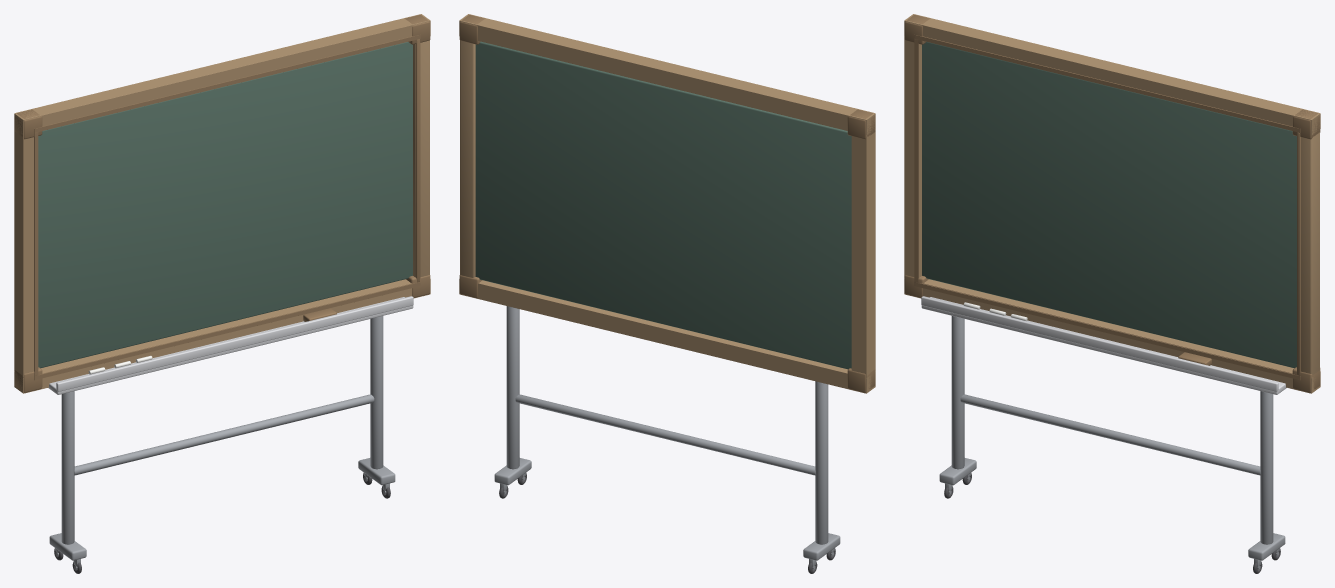
Rendered from blackboard.glb.
3 views of the same model, side by side, from view 1: azimuth 30°, elevation 25°; view 2: azimuth 150°, elevation 25°; view 3: azimuth 330°, elevation 25° (orthographic).
Parts seen in each view (by area): view 1: Blackboard_Surface, Blackboard_RailTop, Blackboard_RailBottom, Blackboard_RailSideL, Blackboard_TrayLip, Blackboard_RailSideR, Blackboard_CrossBar, Blackboard_Leg_-0.72, Blackboard_Leg_0.72, Blackboard_Bead_RailTop, Blackboard_Bead_RailBottom, Blackboard_ChalkTray (+5 smaller); view 2: Blackboard_Surface, Blackboard_RailTop, Blackboard_RailBottom, Blackboard_RailSideL, Blackboard_RailSideR, Blackboard_CrossBar, Blackboard_Leg_-0.72, Blackboard_Leg_0.72, Blackboard_Corner_-1_1, Blackboard_Foot_-0.72, Blackboard_Foot_0.72; view 3: Blackboard_Surface, Blackboard_RailTop, Blackboard_RailBottom, Blackboard_RailSideR, Blackboard_TrayLip, Blackboard_RailSideL, Blackboard_CrossBar, Blackboard_Leg_0.72, Blackboard_Leg_-0.72, Blackboard_Bead_RailBottom, Blackboard_Bead_RailTop, Blackboard_ChalkTray (+5 smaller).
Part boxes in pixels (x1=…): Blackboard_Surface: x1=38, y1=42, x2=412, y2=368; Blackboard_RailTop: x1=14, y1=14, x2=430, y2=135; Blackboard_RailBottom: x1=14, y1=279, x2=430, y2=393; Blackboard_RailSideL: x1=14, y1=129, x2=33, y2=377; Blackboard_TrayLip: x1=56, y1=296, x2=413, y2=391; Blackboard_RailSideR: x1=413, y1=40, x2=429, y2=277; Blackboard_CrossBar: x1=74, y1=394, x2=374, y2=475; Blackboard_Leg_-0.72: x1=61, y1=391, x2=74, y2=544; Blackboard_Leg_0.72: x1=370, y1=316, x2=383, y2=469; Blackboard_Bead_RailTop: x1=34, y1=34, x2=420, y2=132; Blackboard_Bead_RailBottom: x1=34, y1=282, x2=420, y2=380; Blackboard_ChalkTray: x1=48, y1=297, x2=413, y2=394; Blackboard_Surface: x1=475, y1=41, x2=851, y2=369; Blackboard_RailTop: x1=459, y1=14, x2=875, y2=135; Blackboard_RailBottom: x1=459, y1=279, x2=875, y2=393; Blackboard_RailSideL: x1=851, y1=129, x2=875, y2=377; Blackboard_RailSideR: x1=460, y1=40, x2=475, y2=277; Blackboard_CrossBar: x1=515, y1=394, x2=815, y2=475; Blackboard_Leg_-0.72: x1=815, y1=381, x2=828, y2=544; Blackboard_Leg_0.72: x1=506, y1=306, x2=519, y2=469; Blackboard_Corner_-1_1: x1=847, y1=109, x2=875, y2=139; Blackboard_Foot_-0.72: x1=803, y1=533, x2=840, y2=560; Blackboard_Foot_0.72: x1=494, y1=458, x2=531, y2=485; Blackboard_Surface: x1=922, y1=41, x2=1296, y2=368; Blackboard_RailTop: x1=904, y1=14, x2=1320, y2=135; Blackboard_RailBottom: x1=904, y1=279, x2=1320, y2=393; Blackboard_RailSideR: x1=1301, y1=132, x2=1319, y2=374; Blackboard_TrayLip: x1=921, y1=296, x2=1278, y2=391; Blackboard_RailSideL: x1=904, y1=36, x2=921, y2=278; Blackboard_CrossBar: x1=960, y1=394, x2=1260, y2=475; Blackboard_Leg_0.72: x1=1260, y1=391, x2=1273, y2=544; Blackboard_Leg_-0.72: x1=951, y1=316, x2=964, y2=469; Blackboard_Bead_RailBottom: x1=914, y1=282, x2=1300, y2=380; Blackboard_Bead_RailTop: x1=914, y1=34, x2=1300, y2=132; Blackboard_ChalkTray: x1=921, y1=297, x2=1286, y2=394.
Bounding box in the file's own units: 1.9 × 2.06 × 0.213.
